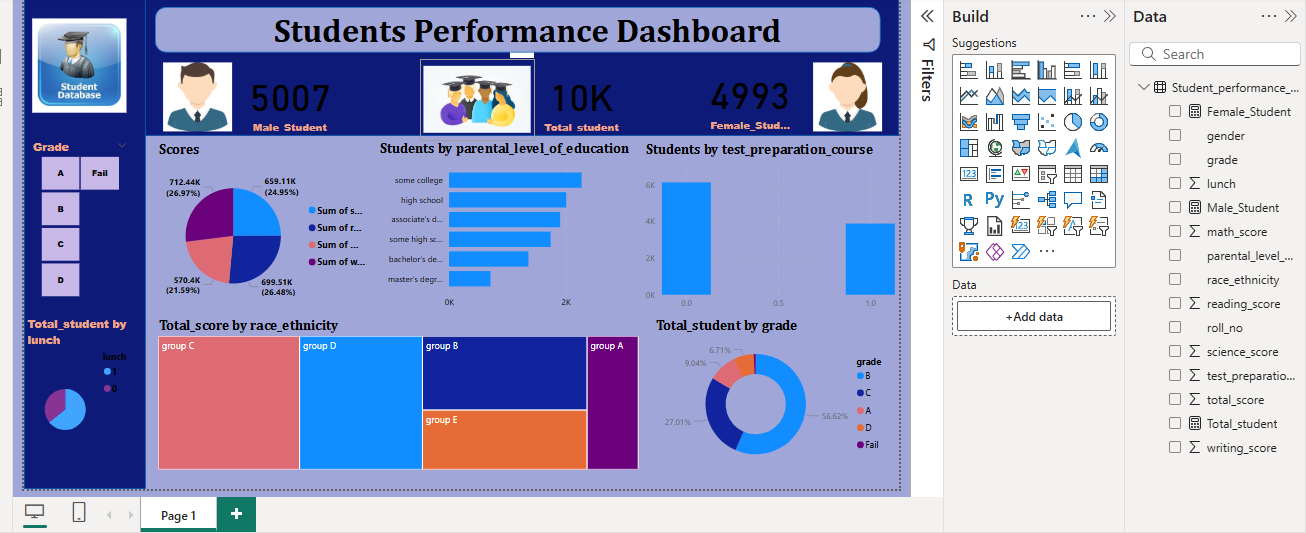

This screenshot's page, from the dashboard's own definition file:
{"tool":"powerbi","page":{"name":"Page 1","canvas":[1280,720],"ordinal":0},"visuals":[{"type":"shape","box":[0,0,1280,202.9],"z":0},{"type":"shape","box":[0,0,178,720],"z":1000},{"type":"pieChart","title":"Scores","fields":{"Y":["Sum(Student_performance_10k.science_score)","Sum(Student_performance_10k.reading_score)","Sum(Student_performance_10k.math_score)","Sum(Student_performance_10k.writing_score)"]},"box":[191.7,210,323.3,255],"z":2000},{"type":"card","fields":{"Values":["Student_performance_10k.Total_student"]},"box":[747.1,101.4,135.7,100],"z":5000},{"type":"image","box":[0,26.7,161.7,148.3],"z":6000},{"type":"image","box":[178.8,91.2,150.2,110.8],"z":7000},{"type":"image","box":[1129.8,91.2,150.2,110.8],"z":8000},{"type":"image","box":[580,91.4,167.1,118.6],"z":9000},{"type":"card","fields":{"Values":["Student_performance_10k.Female_Student"]},"box":[995,96.7,135,105],"z":10000},{"type":"card","fields":{"Values":["Student_performance_10k.Male_Student"]},"box":[320,101.7,136.7,100],"z":11000},{"type":"shape","box":[191.7,15,1061.7,66.7],"z":12000},{"type":"textbox","box":[220,14.3,1034.3,68.6],"z":13000},{"type":"donutChart","fields":{"Category":["Student_performance_10k.grade"],"Y":["Student_performance_10k.Total_student"]},"box":[918.9,468.4,361.1,232.4],"z":14000},{"type":"treemap","title":"Total_score by race_ethnicity","fields":{"Group":["Student_performance_10k.race_ethnicity"],"Values":["Sum(Student_performance_10k.total_score)"]},"box":[191.7,468.3,713.3,228.3],"z":15000},{"type":"barChart","title":"Students by parental_level_of_education","fields":{"Category":["Student_performance_10k.parental_level_of_education"],"Y":["Student_performance_10k.Total_student"]},"box":[514.9,209.2,375.4,255.6],"z":16000},{"type":"clusteredColumnChart","title":"Students by test_preparation_course","fields":{"Category":["Student_performance_10k.test_preparation_course"],"Y":["Student_performance_10k.Total_student"]},"box":[905,210,375,255],"z":17000},{"type":"slicer","fields":{"Values":["Student_performance_10k.grade"]},"box":[0,202.5,162.5,242.5],"z":17001},{"type":"pieChart","fields":{"Category":["Student_performance_10k.lunch"],"Y":["Student_performance_10k.Total_student"]},"box":[0,467.5,177.5,227.5],"z":17002}]}

Visuals, with their boxes on the page's 1280x720 design canvas (x1, y1, x2, y2). These are canvas units, not pixel positions in the 1306x533 screenshot, which may show the page scaled, cropped or inside an application window:
shape: 0/0/1280/203
shape: 0/0/178/720
"Scores" pieChart: 192/210/515/465
card - Student_performance_10k.Total_student: 747/101/883/201
image: 0/27/162/175
image: 179/91/329/202
image: 1130/91/1280/202
image: 580/91/747/210
card - Student_performance_10k.Female_Student: 995/97/1130/202
card - Student_performance_10k.Male_Student: 320/102/457/202
shape: 192/15/1253/82
textbox: 220/14/1254/83
donutChart - Student_performance_10k.grade x Student_performance_10k.Total_student: 919/468/1280/701
"Total_score by race_ethnicity" treemap: 192/468/905/697
"Students by parental_level_of_education" barChart: 515/209/890/465
"Students by test_preparation_course" clusteredColumnChart: 905/210/1280/465
slicer - Student_performance_10k.grade: 0/202/162/445
pieChart - Student_performance_10k.lunch x Student_performance_10k.Total_student: 0/468/178/695
